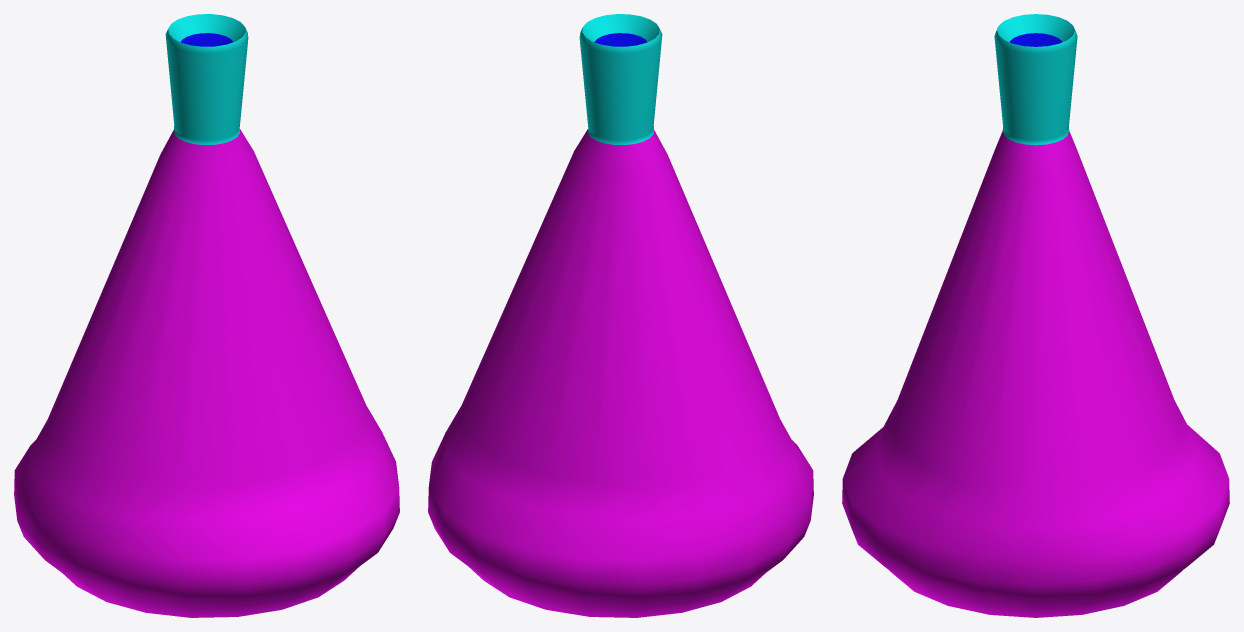
File: Flask.fbx
3 renders of one model, left to right at view 1: azimuth 30°, elevation 25°; view 2: azimuth 150°, elevation 25°; view 3: azimuth 270°, elevation 25°, orthographic.
Visible parts, largest first — view 1: Flask; view 2: Flask; view 3: Flask.
Boxes of the visible parts, x1,y1,x2,y2 form: Flask: [14, 14, 399, 617]; Flask: [428, 14, 813, 617]; Flask: [842, 14, 1229, 617].
Bounding box in the file's own units: 190 × 293 × 190.
